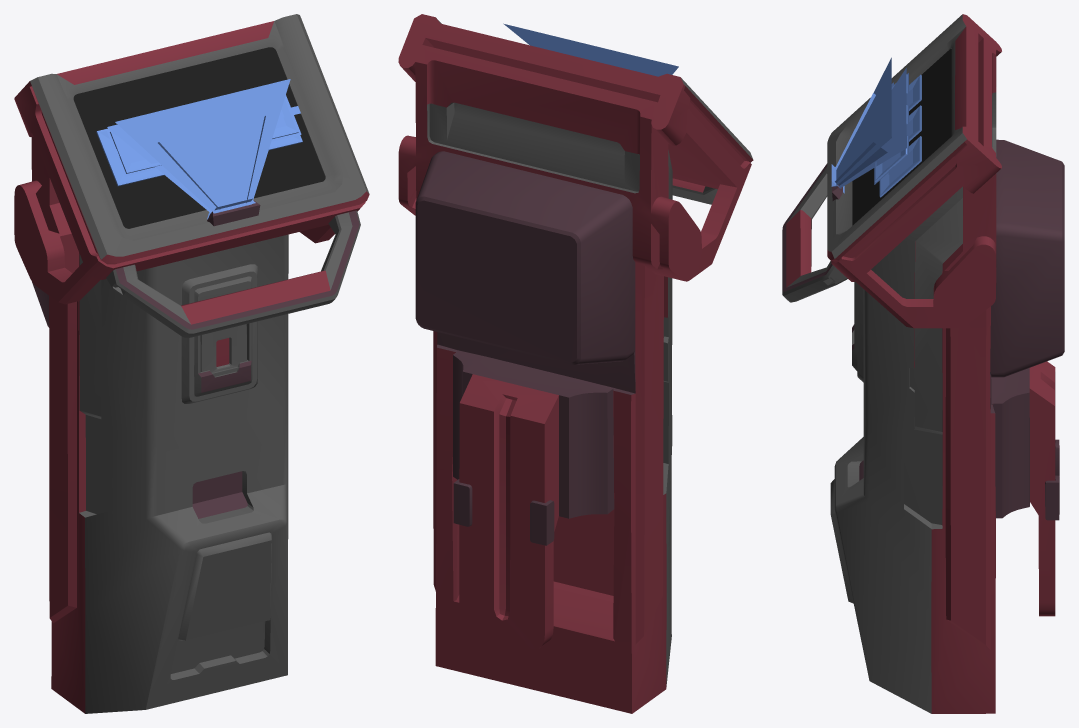
Rendered from terminal.fbx.
3 views of the same model, side by side, from view 1: azimuth 30°, elevation 25°; view 2: azimuth 150°, elevation 25°; view 3: azimuth 270°, elevation 25° (orthographic). The views are drawn at different scales.
Visible parts, largest first — view 1: main_LOD0, screen_background, hologram_effect, button_1_background, button_1, hologram_emitter, button_3; view 2: main_LOD0, hologram_effect; view 3: main_LOD0, hologram_effect, screen_background, button_3_background, button_3.
Boxes of the visible parts, bbox=[...] form: main_LOD0: bbox=[14, 14, 369, 713]; screen_background: bbox=[73, 47, 325, 228]; hologram_effect: bbox=[107, 79, 290, 219]; button_1_background: bbox=[96, 128, 164, 186]; button_1: bbox=[106, 129, 161, 176]; hologram_emitter: bbox=[207, 200, 260, 226]; button_3: bbox=[271, 95, 301, 141]; main_LOD0: bbox=[398, 14, 753, 713]; hologram_effect: bbox=[503, 23, 678, 76]; main_LOD0: bbox=[782, 14, 1064, 713]; hologram_effect: bbox=[831, 57, 906, 193]; screen_background: bbox=[852, 49, 951, 225]; button_3_background: bbox=[879, 136, 921, 197]; button_3: bbox=[874, 134, 908, 184].
Size of what is drawn, in the model's own units: 57.42 by 128 by 55.11.
